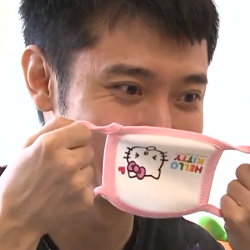mask: (63, 99, 235, 228)
